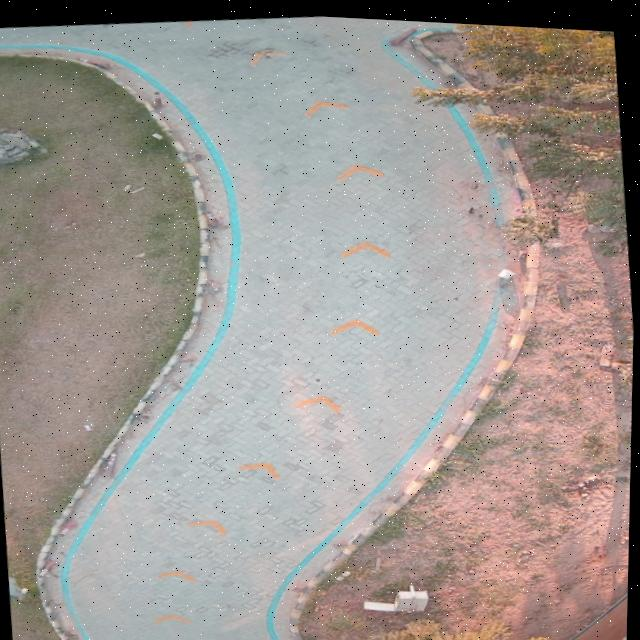No Car: (0, 12, 635, 640)
